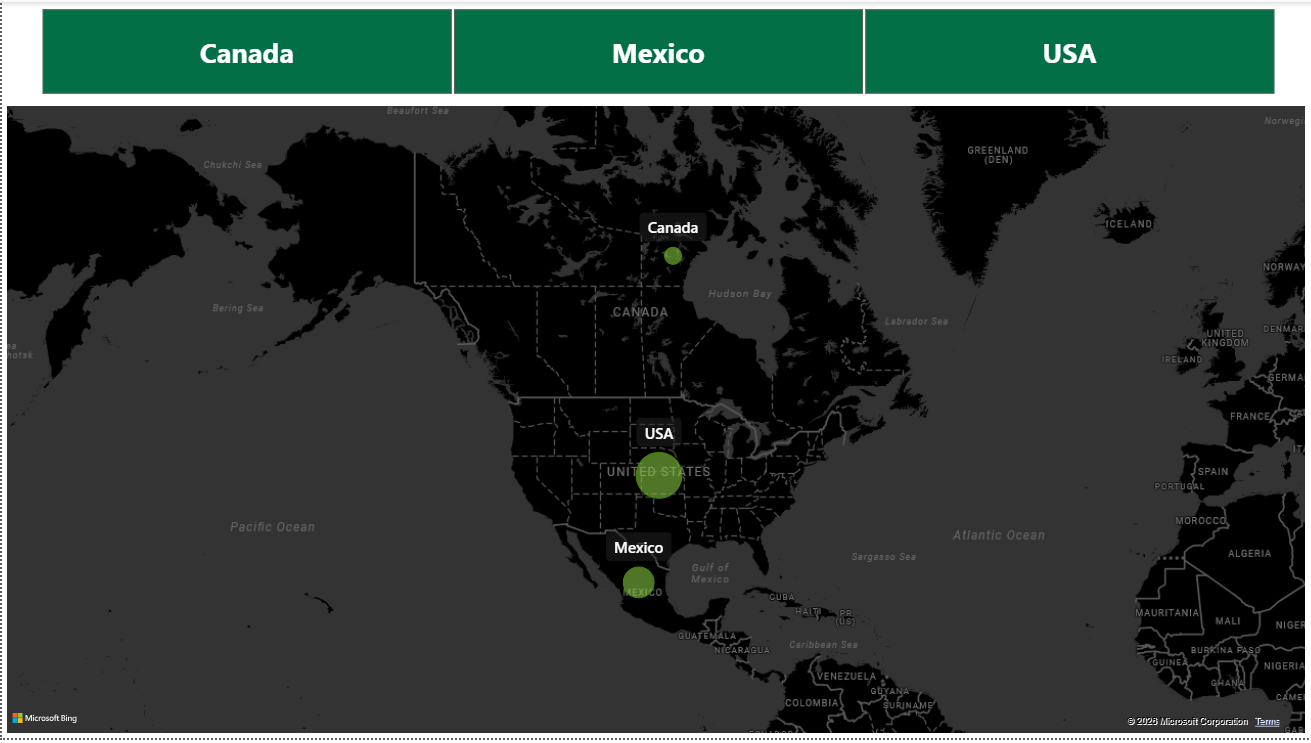

What the dashboard file says about the page in this screenshot:
{"tool":"powerbi","page":{"name":"Global Sales Analysis","canvas":[1280,720],"ordinal":1},"visuals":[{"type":"map","fields":{"Category":["Stores.Country/Region ","Stores.City"],"Size":["Measure.Total Transaction"]},"box":[0,96.7,1279.7,623.3],"z":0},{"type":"slicer","fields":{"Values":["Customers.customer_country"]},"box":[13,0,1255.2,96.7],"z":1000}]}

Visuals, with their boxes in screenshot pixels (x1, y1, x2, y2), scaled from the page's 1280x720 canvas onto the 1311x743 screenshot:
map - Stores.Country/Region  x Stores.City: BBox(0, 100, 1310, 742)
slicer - Customers.customer_country: BBox(13, 0, 1299, 100)
